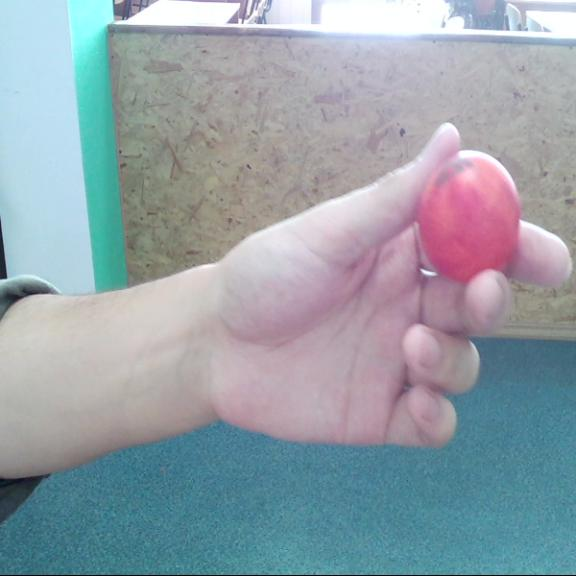ball: (421, 154, 520, 283)
